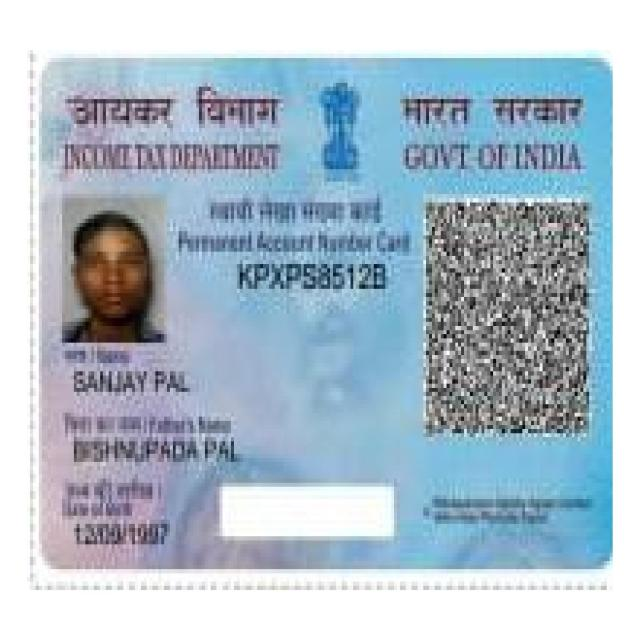pan_card: (41, 56, 612, 567)
